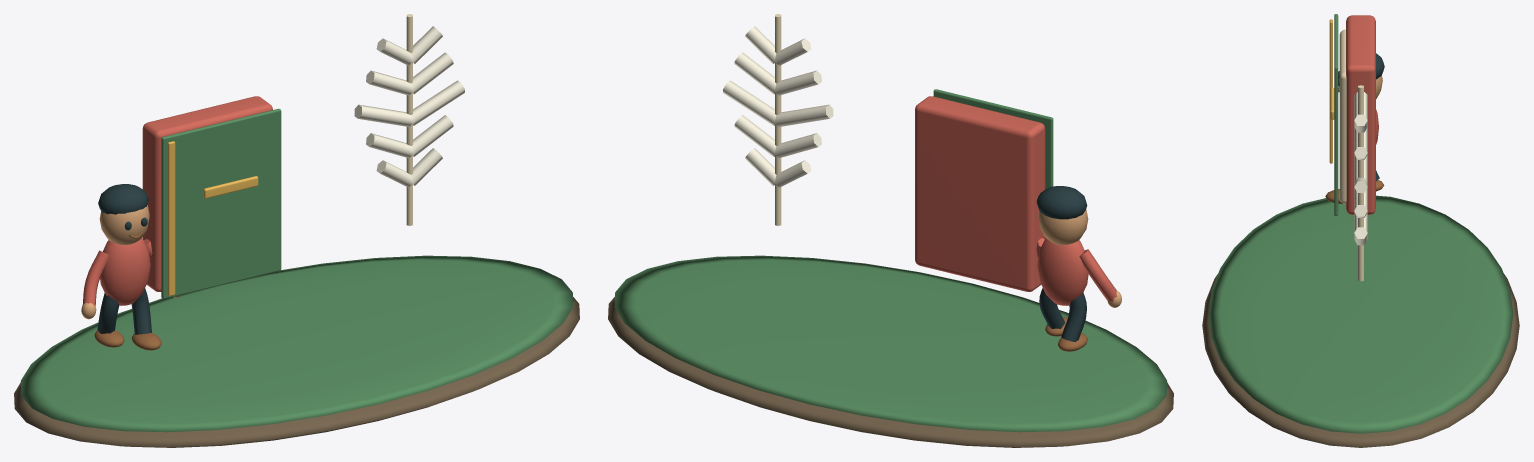
Rendered from learning-wings.glb.
The picture shows the model from 3 angles, left to right: view 1: azimuth 30°, elevation 25°; view 2: azimuth 150°, elevation 25°; view 3: azimuth 270°, elevation 25°; orthographic projection. The views are drawn at different scales.
Parts seen in each view (by area): view 1: learning-wings_surface_01, learning-wings_surface_00, learning-wings_surface_02, learning-wings_surface_05, learning-wings_surface_07, learning-wings_surface_04, learning-wings_surface_06, learning-wings_surface_03, learning-wings_surface_08; view 2: learning-wings_surface_01, learning-wings_surface_02, learning-wings_surface_00, learning-wings_surface_05, learning-wings_surface_07, learning-wings_surface_06, learning-wings_surface_03; view 3: learning-wings_surface_01, learning-wings_surface_00, learning-wings_surface_02, learning-wings_surface_03, learning-wings_surface_05, learning-wings_surface_04.
Boxes of the visible parts, x1,y1,x2,y2 form: learning-wings_surface_01: (21,108,573,432); learning-wings_surface_00: (14,297,579,447); learning-wings_surface_02: (82,96,272,305); learning-wings_surface_05: (354,26,464,187); learning-wings_surface_07: (97,184,151,334); learning-wings_surface_04: (167,141,258,296); learning-wings_surface_06: (81,205,181,319); learning-wings_surface_03: (406,14,412,225); learning-wings_surface_08: (94,231,161,350); learning-wings_surface_01: (614,89,1166,432); learning-wings_surface_02: (915,96,1117,305); learning-wings_surface_00: (608,297,1173,447); learning-wings_surface_05: (723,26,833,187); learning-wings_surface_07: (1036,186,1087,341); learning-wings_surface_06: (1038,209,1121,307); learning-wings_surface_03: (775,14,781,225); learning-wings_surface_01: (1208,14,1513,433); learning-wings_surface_00: (1202,274,1519,447); learning-wings_surface_02: (1346,15,1378,214); learning-wings_surface_03: (1339,29,1363,281); learning-wings_surface_05: (1354,92,1367,245); learning-wings_surface_04: (1329,19,1334,163).
Size of the model in its own units: 4.56 by 2.65 by 2.5.
